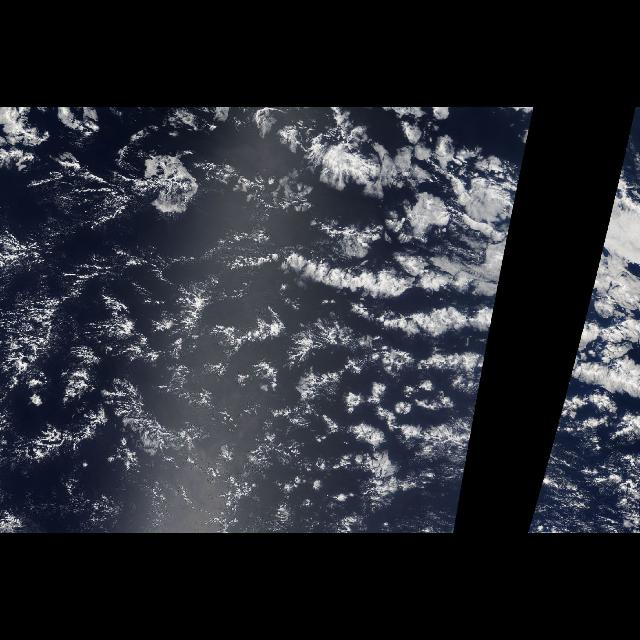Flower: (286, 116, 532, 514), (534, 116, 640, 514)
Gravel: (13, 132, 455, 524)
